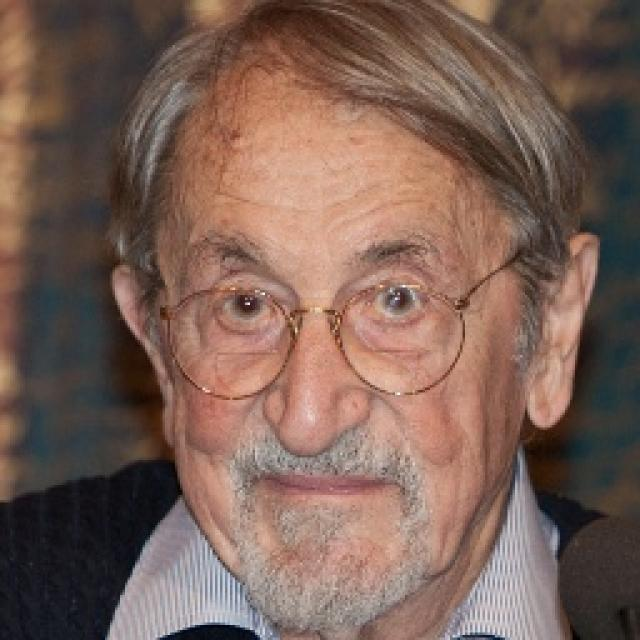earlobe: (523, 371, 569, 432), (157, 381, 179, 448)
eye: (362, 284, 434, 319), (216, 285, 276, 326)
nose: (265, 422, 374, 466)
wholeear: (523, 233, 599, 432), (110, 262, 180, 449)
